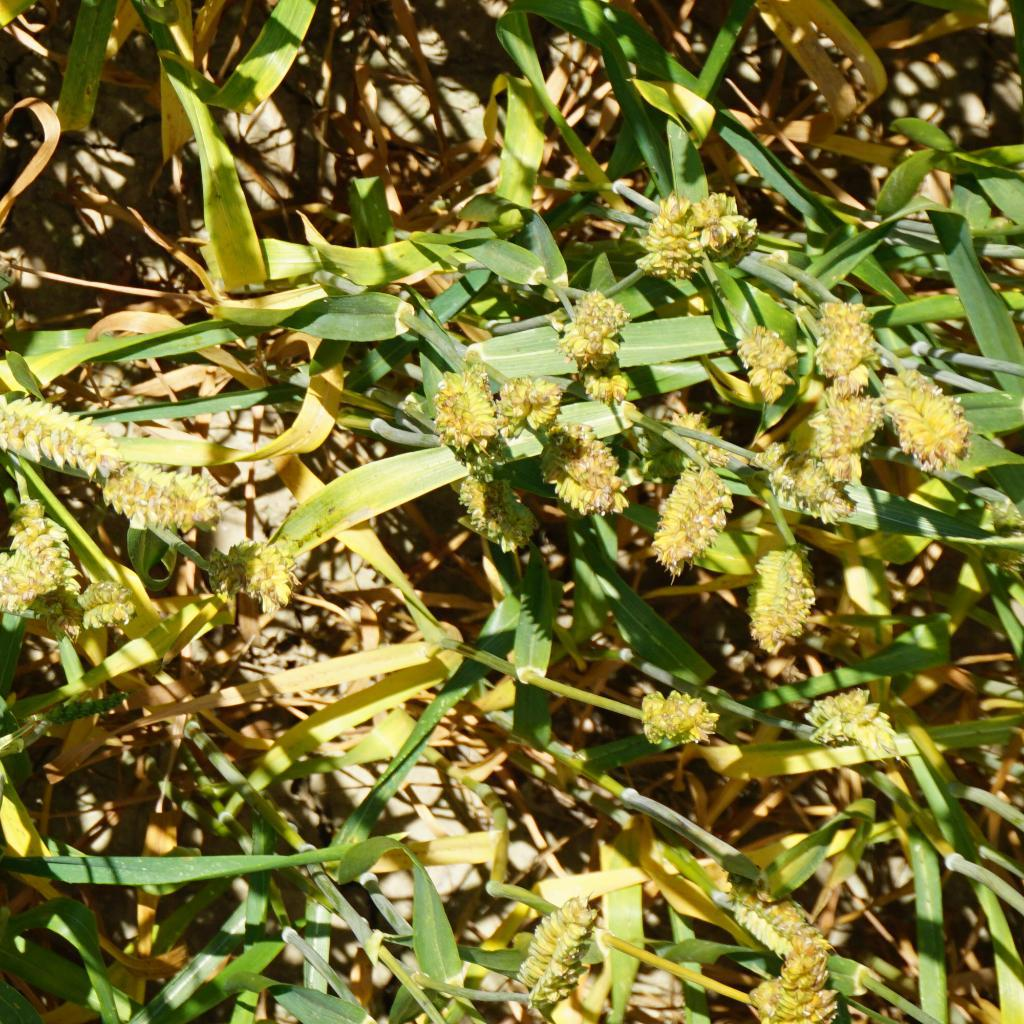0-0: (736, 530, 829, 649), (645, 452, 730, 576), (451, 468, 543, 563), (888, 366, 977, 463), (522, 898, 601, 1001), (0, 397, 112, 468), (726, 872, 821, 951), (99, 459, 216, 523), (756, 436, 844, 521), (611, 680, 716, 749), (545, 421, 620, 513), (429, 350, 496, 446), (635, 399, 722, 471), (820, 290, 880, 391), (8, 496, 76, 581), (756, 956, 835, 1024), (813, 690, 898, 752), (636, 196, 701, 273), (814, 394, 872, 479), (211, 542, 296, 596), (0, 534, 61, 604), (735, 322, 788, 394), (68, 578, 139, 628), (499, 370, 559, 427), (565, 287, 614, 352), (570, 348, 623, 403), (694, 200, 750, 250)
